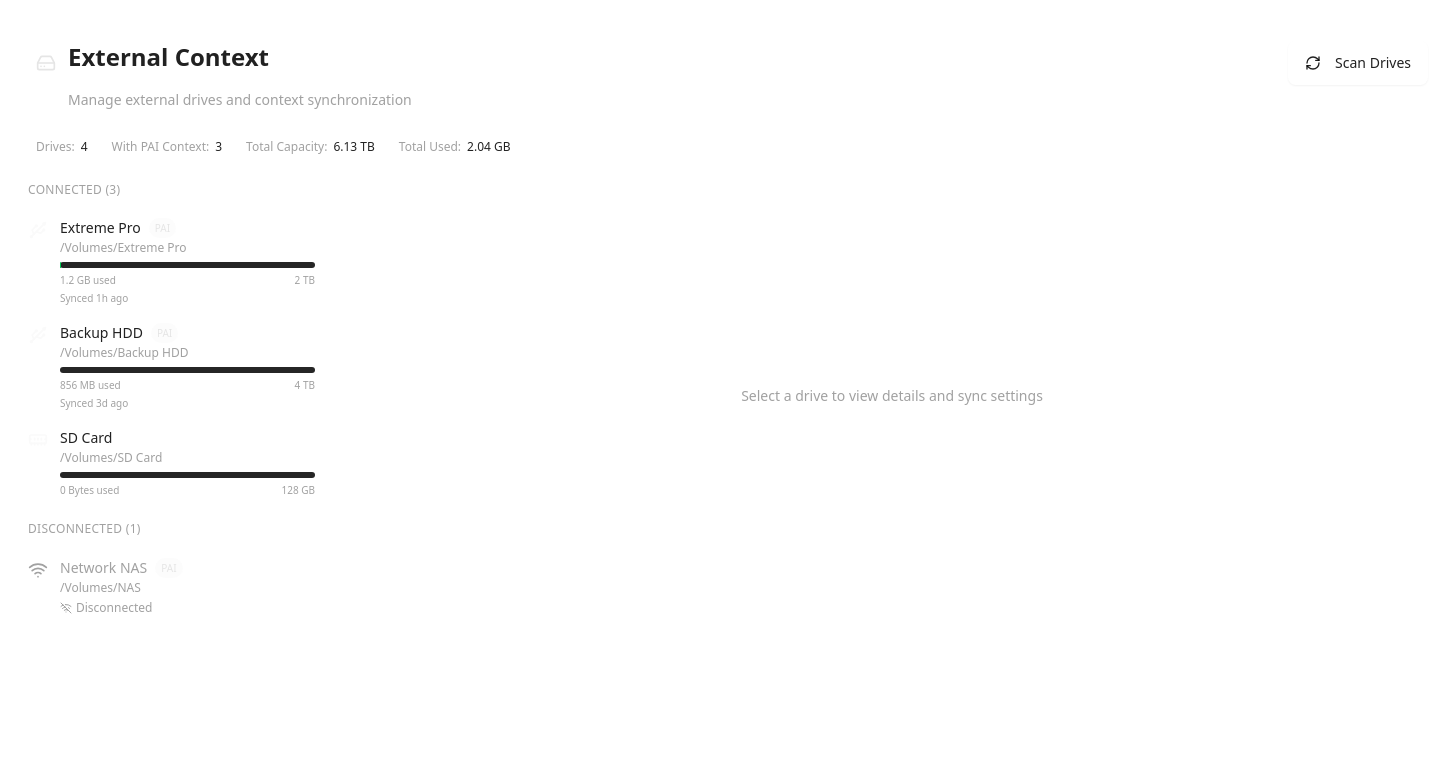
Scenario: ExternalContextPage › should select a drive and show details
Expected: the text "Extreme Pro" is shown, [60,218,141,238]
Click the button that starts with "Extreme Pro" at [172, 263], box [12,210,331,315]
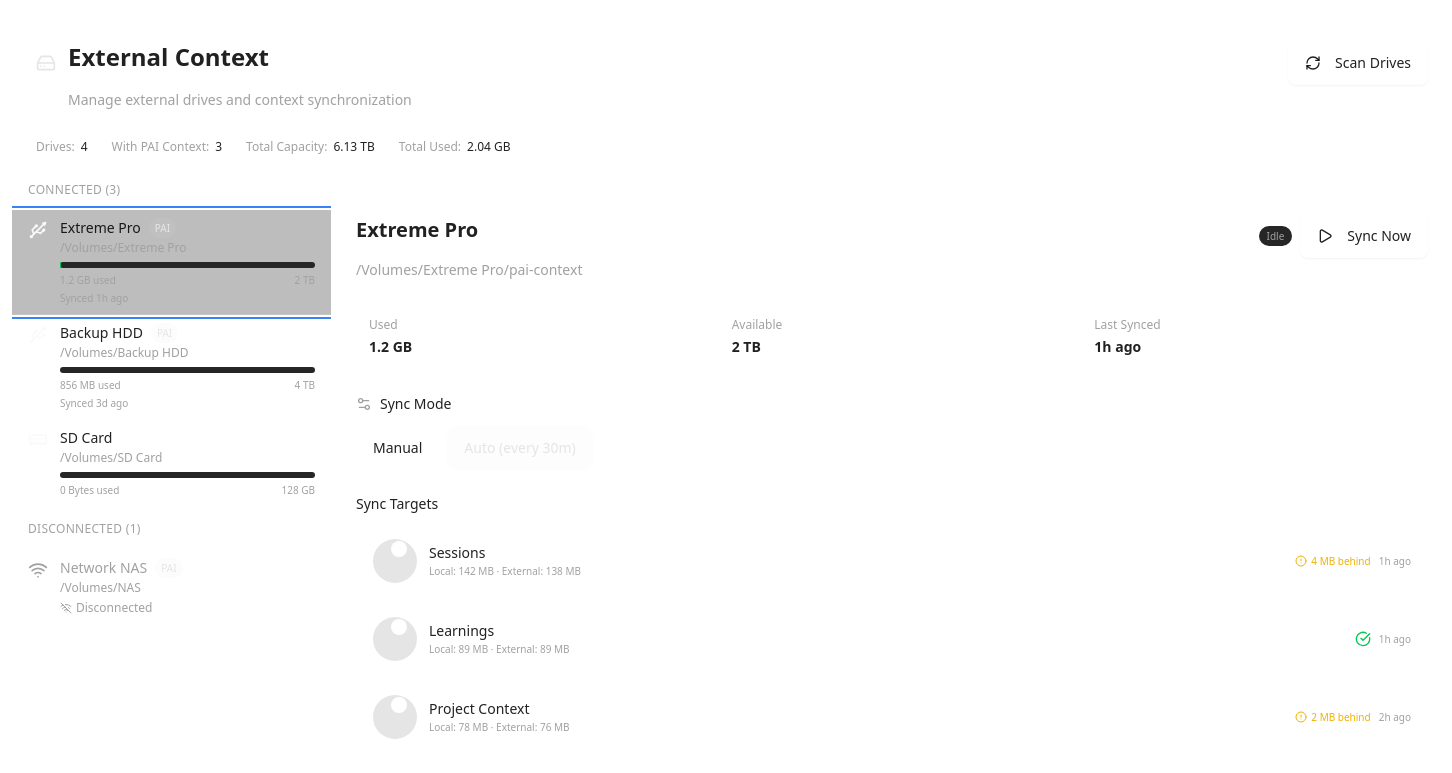
Now the button "Sync Now" is shown, box [1300,214,1428,258]
